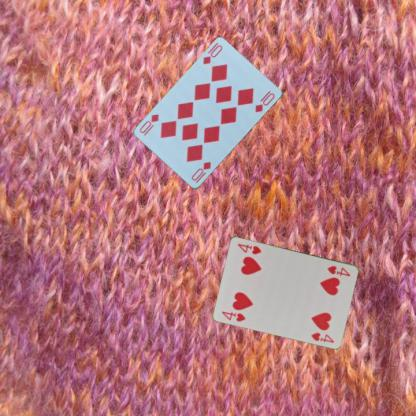10d: (189, 159, 212, 185), (200, 40, 223, 66)
4h: (219, 308, 247, 323), (325, 263, 352, 277)
